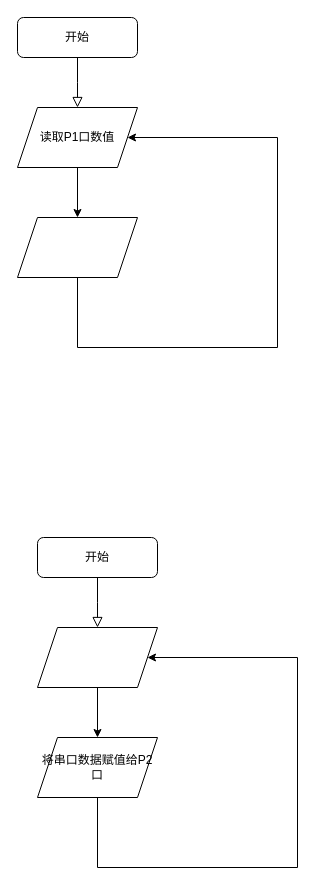
Some shapes in this 323 by 893 pixel diagram are drawn without their labels. The shapes that lost their labels are listed below. From the top down, each one's centre as x and y in pixels, then its label:
At [77,247]: "通过串口发送".
At [97,657]: "串口接收发送机数据".
